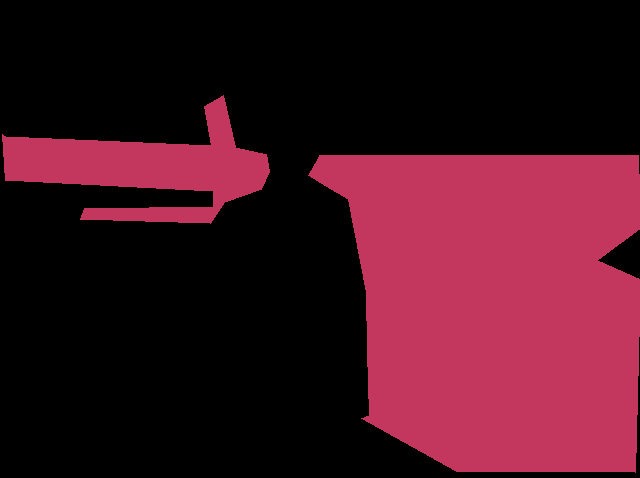Airplane: (2, 95, 640, 473)
